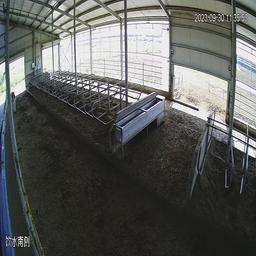cow: (7, 82, 22, 115)
